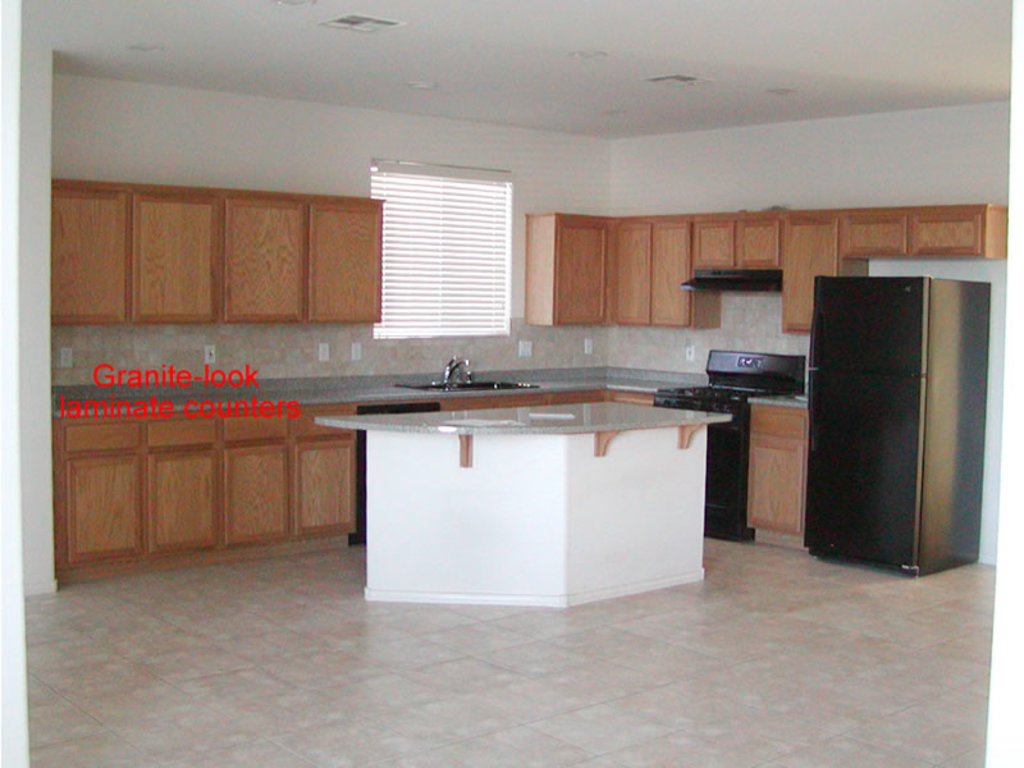cabinet door: (129, 194, 222, 323), (223, 199, 311, 323), (54, 195, 130, 317), (310, 208, 381, 315), (150, 453, 217, 545), (748, 434, 806, 527), (74, 460, 135, 548), (226, 459, 290, 541), (299, 447, 358, 532), (557, 218, 604, 317), (610, 230, 651, 324), (652, 236, 694, 324), (909, 214, 982, 254), (786, 224, 814, 319), (838, 222, 914, 253), (734, 221, 783, 267), (692, 228, 737, 269)
handle: (809, 371, 823, 453), (808, 314, 823, 367)
refrigerator door: (812, 372, 916, 564), (814, 275, 923, 368)
